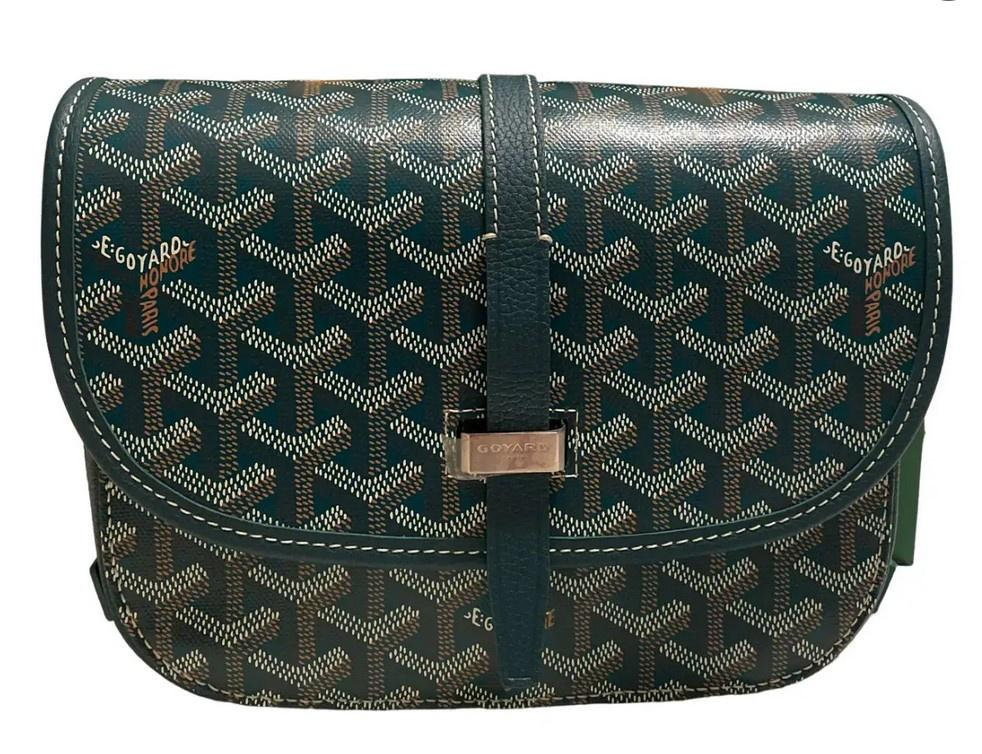GOYARD: (74, 80, 932, 710)
